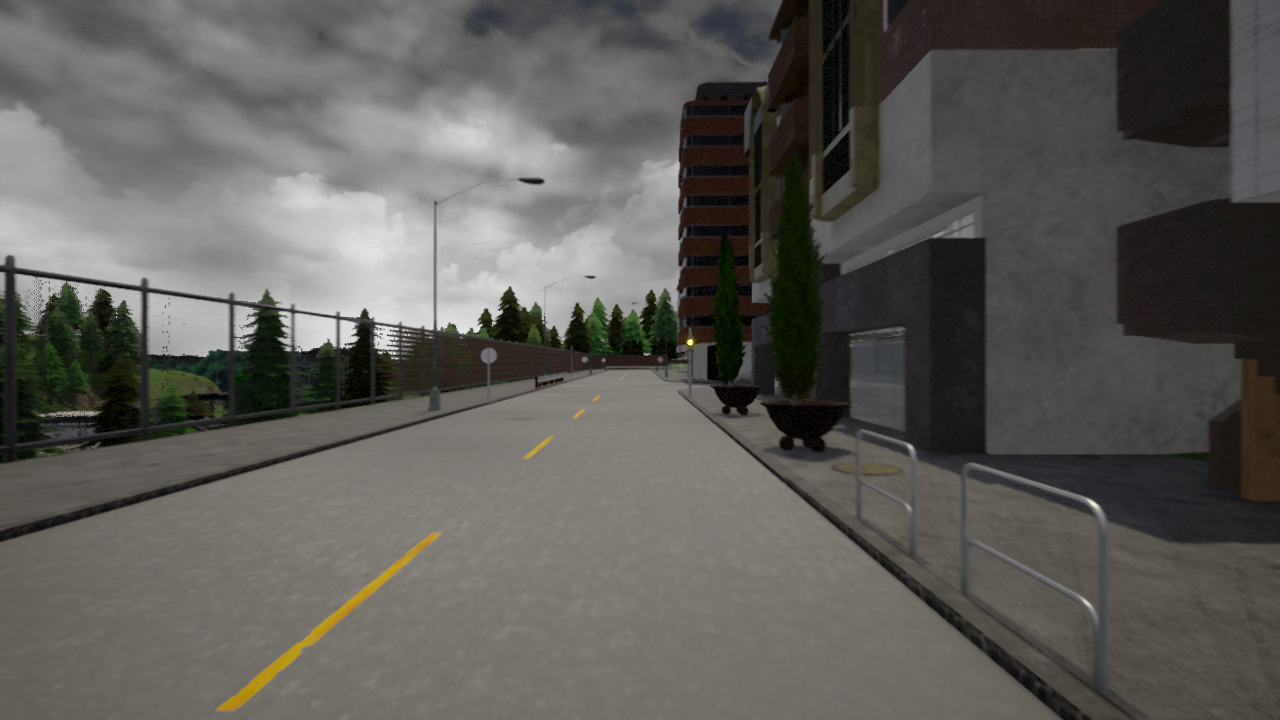yellow: (686, 332, 695, 352)
